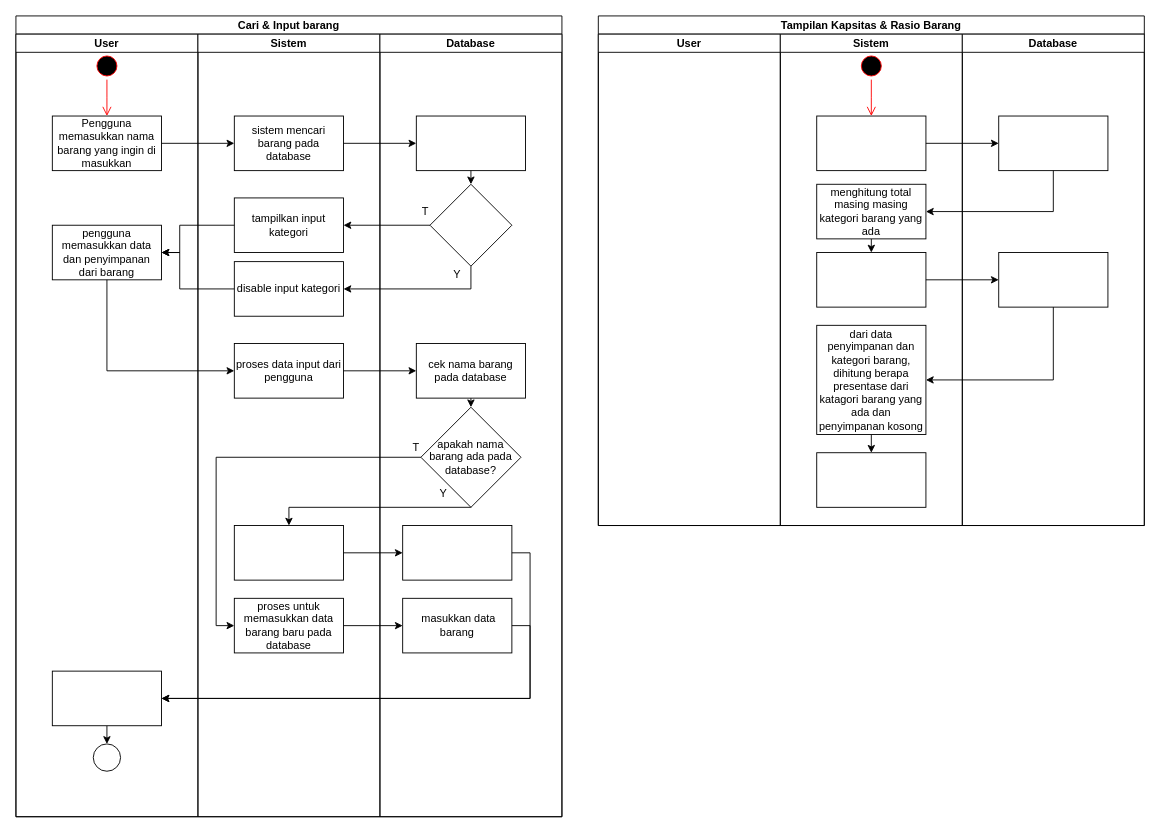
Image size: 1160x833. Some labels were removed from this diagram. Each missing label, with the box of its shape:
apakah data barang ada?: (429, 183, 512, 266)
database mengambil nama barang yang di cari: (415, 115, 526, 171)
meminta data penyimpanan pada database: (816, 252, 926, 307)
meminta data seluruh barang pada database: (816, 115, 926, 171)
mengambil seluruh data barang: (998, 115, 1108, 171)
mengambil seluruh data penyimpanan: (998, 252, 1108, 307)
proses untuk update data barang sesuai dengan data yang di masukan: (233, 525, 344, 580)
tampikan presentase yang telah di hitung pada grafik: (816, 452, 926, 507)
tampilkan modal dari barcode barang yang di masukkan: (51, 670, 162, 726)
update data barang: (402, 525, 512, 580)
